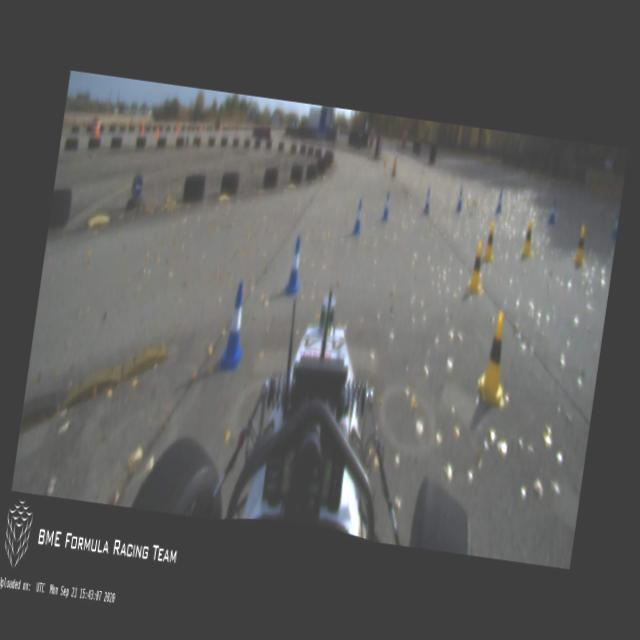blue_cone: (216, 278, 253, 376), (283, 234, 306, 294), (351, 200, 365, 238), (381, 191, 392, 219), (610, 212, 620, 240), (422, 188, 432, 215), (454, 188, 464, 212), (548, 200, 557, 222), (496, 192, 504, 214)
yellow_cone: (475, 308, 516, 409), (467, 239, 488, 293), (572, 226, 590, 266), (520, 220, 536, 258), (482, 222, 498, 260)
